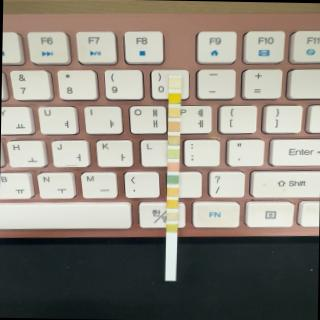mark: (168, 134, 180, 144), (168, 92, 180, 102), (168, 78, 180, 88), (165, 199, 178, 208), (166, 187, 178, 196), (166, 174, 178, 183), (167, 148, 179, 157), (168, 121, 179, 130), (166, 224, 178, 232), (166, 212, 178, 220), (167, 162, 179, 170), (168, 108, 180, 116)
